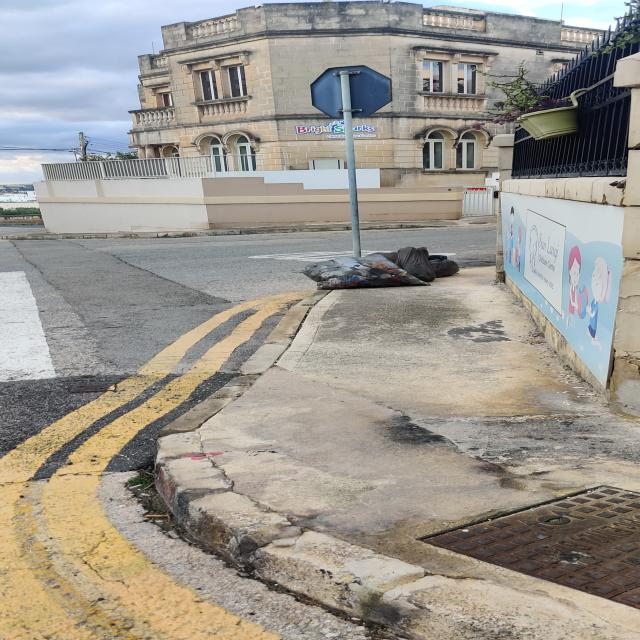Mixed Waste -Black Bags-: (304, 246, 461, 291)
